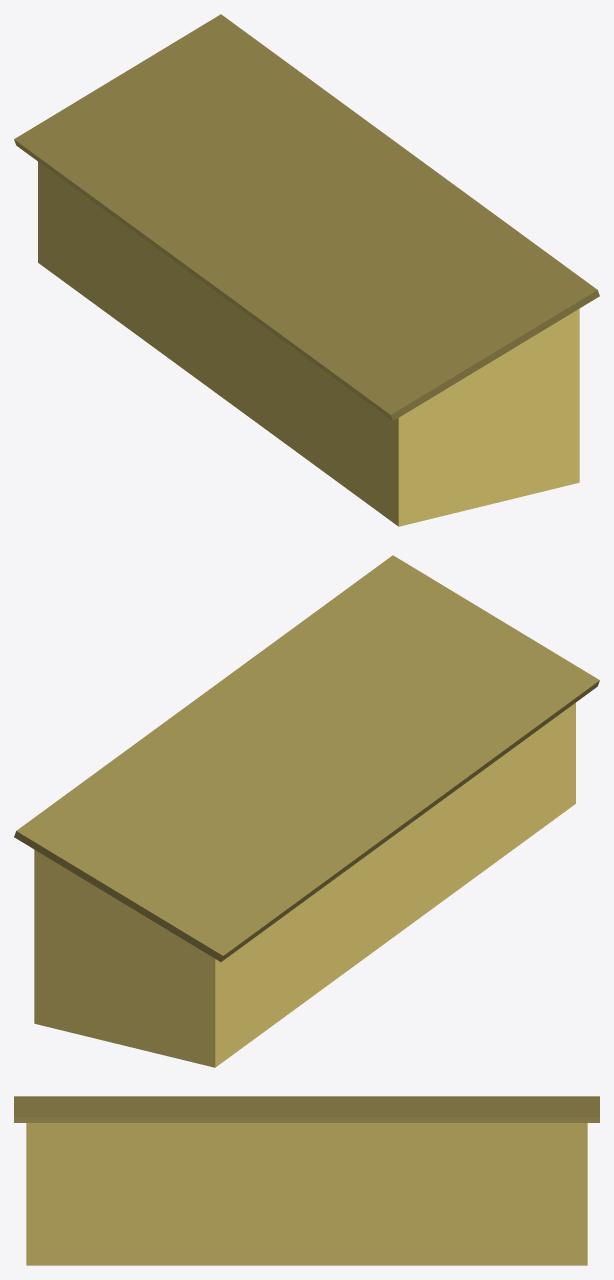
Rendered from result.glb.
The picture shows the model from 3 angles, top to bottom: view 1: azimuth 30°, elevation 25°; view 2: azimuth 150°, elevation 25°; view 3: azimuth 270°, elevation 25°; orthographic projection. The views are drawn at different scales.
Parts seen in each view (by area): view 1: 726744c9-90d2-4c7b-b39d-c96206bec1ae__undefined, 2808b407-b6de-40c0-a896-62fd64549ed7__undefined; view 2: 726744c9-90d2-4c7b-b39d-c96206bec1ae__undefined, 2808b407-b6de-40c0-a896-62fd64549ed7__undefined; view 3: 2808b407-b6de-40c0-a896-62fd64549ed7__undefined, 726744c9-90d2-4c7b-b39d-c96206bec1ae__undefined.
Boxes of the visible parts, x1,y1,x2,y2 form: 726744c9-90d2-4c7b-b39d-c96206bec1ae__undefined: (14,14,599,420); 2808b407-b6de-40c0-a896-62fd64549ed7__undefined: (38,162,579,526); 726744c9-90d2-4c7b-b39d-c96206bec1ae__undefined: (14,555,599,961); 2808b407-b6de-40c0-a896-62fd64549ed7__undefined: (34,703,575,1067); 2808b407-b6de-40c0-a896-62fd64549ed7__undefined: (26,1123,587,1265); 726744c9-90d2-4c7b-b39d-c96206bec1ae__undefined: (14,1096,599,1122).
Bounding box in the file's own units: 759 × 680 × 2366.
